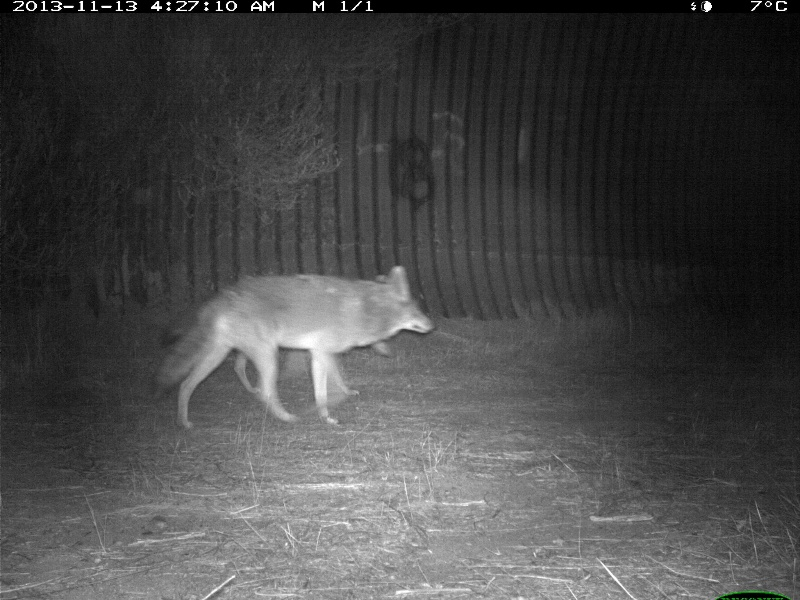coyote: (166, 263, 436, 437)
